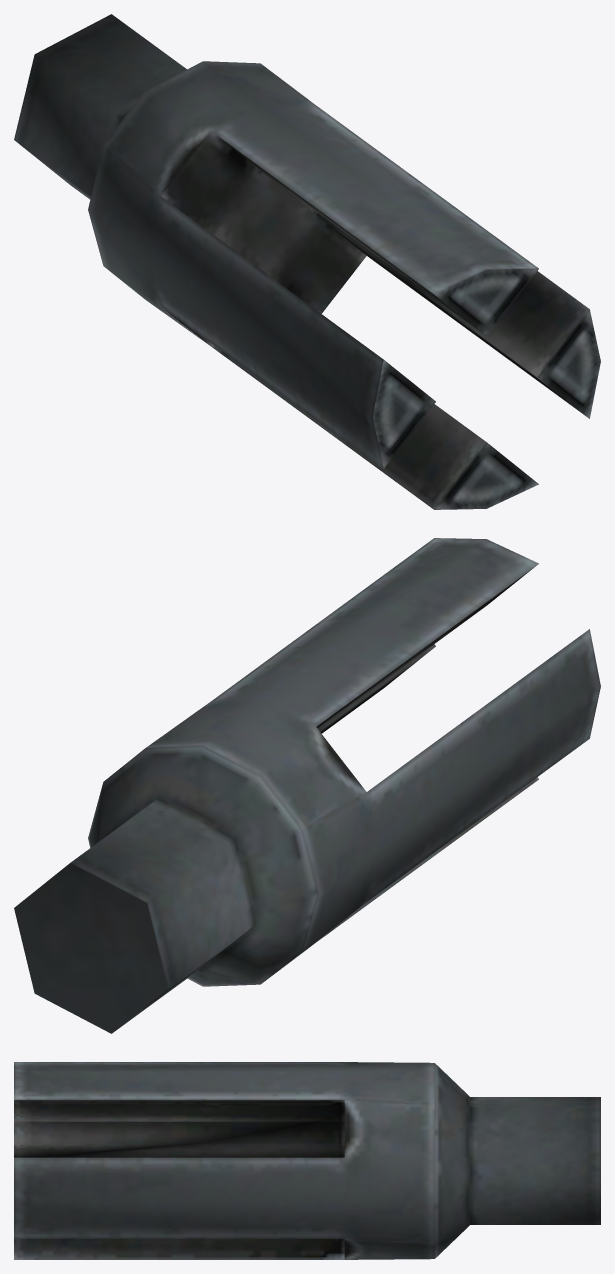
Rendered from Assault_Rifle_bq_qt_01_Stock_Main_(000159).glb.
3 views of the same model, one above another, from view 1: azimuth 30°, elevation 25°; view 2: azimuth 150°, elevation 25°; view 3: azimuth 270°, elevation 25° (orthographic). The views are drawn at different scales.
Parts seen in each view (by area): view 1: bq_qt_01; view 2: bq_qt_01; view 3: bq_qt_01.
Boxes of the visible parts, x1,y1,x2,y2 form: bq_qt_01: [14, 14, 600, 509]; bq_qt_01: [14, 538, 600, 1033]; bq_qt_01: [14, 1062, 600, 1259].
Size of the model in its own units: 0.0595 by 0.0595 by 0.1773.
Materials: 1 (1 with a texture image).
